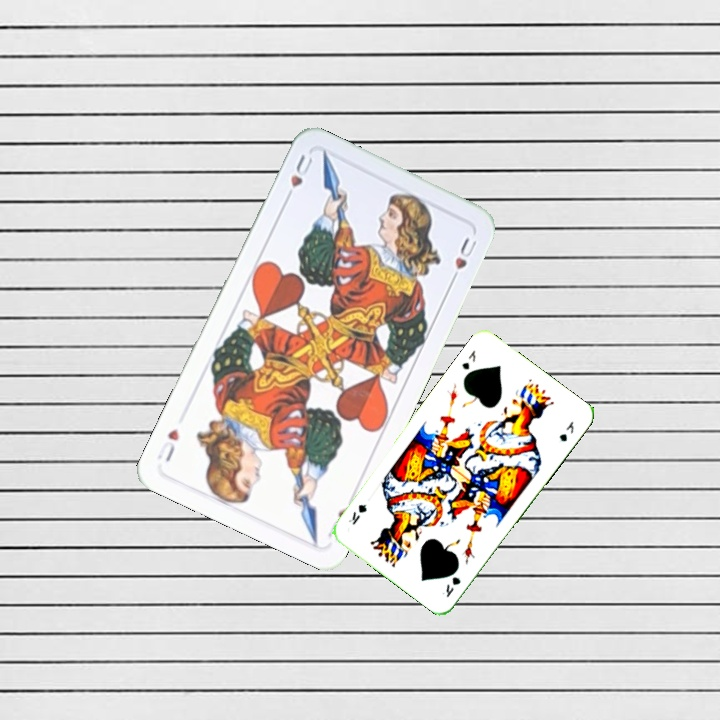GK: (438, 572, 463, 600), (457, 346, 478, 372)
HU: (280, 150, 316, 205)
